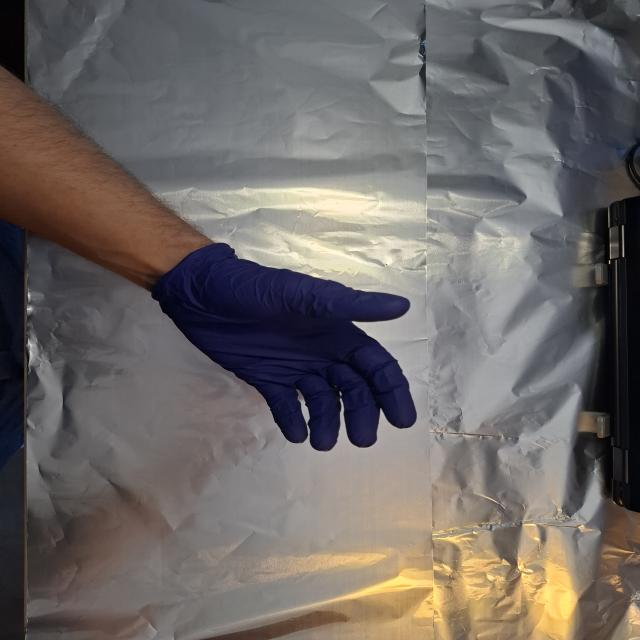glove_on: (153, 244, 420, 454)
